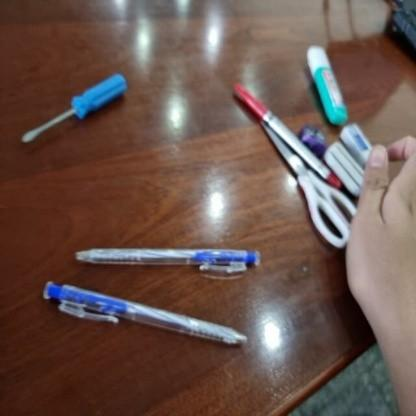not trash: (225, 79, 352, 247), (31, 273, 253, 358), (17, 65, 130, 171), (70, 230, 266, 281), (283, 36, 353, 134), (314, 121, 365, 192)
